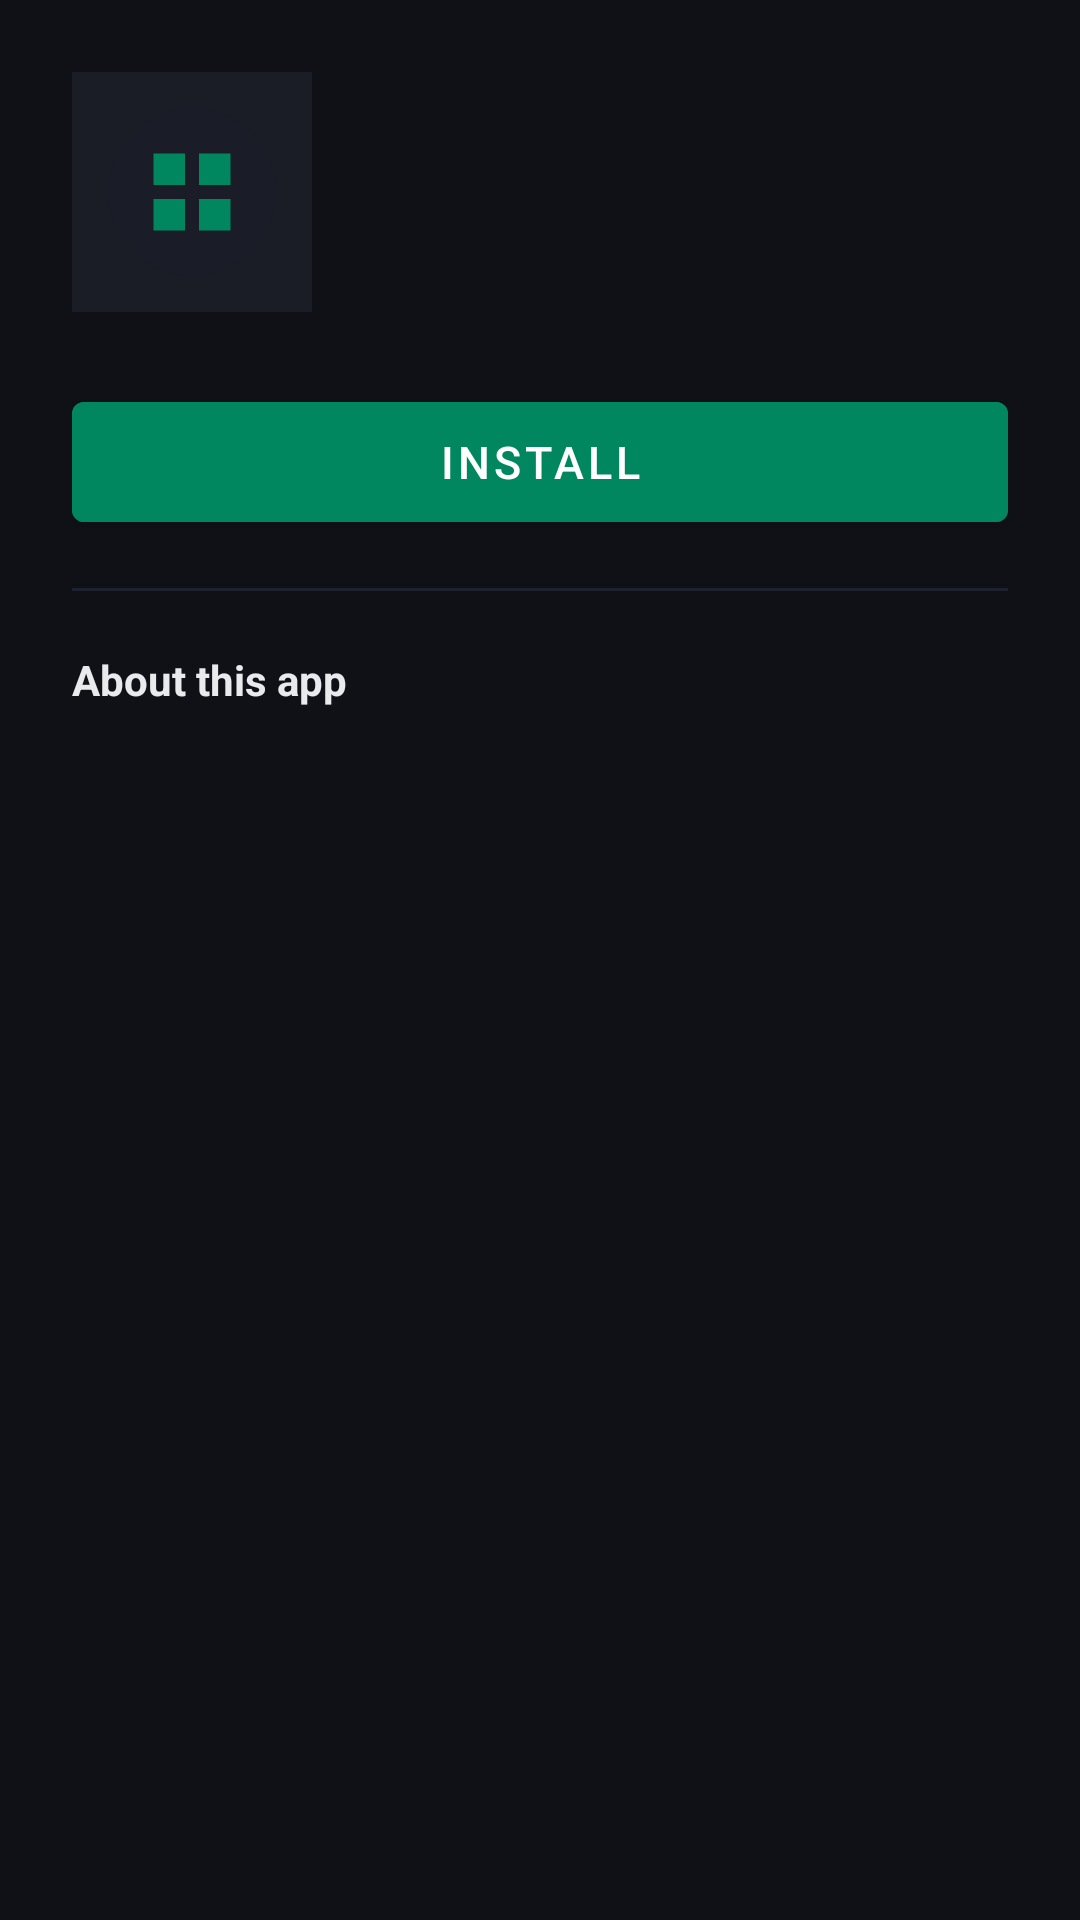

Screen size 1080px x 1920px. Icon name, then its center in pixels as [x,y]:
app: [192,192]
